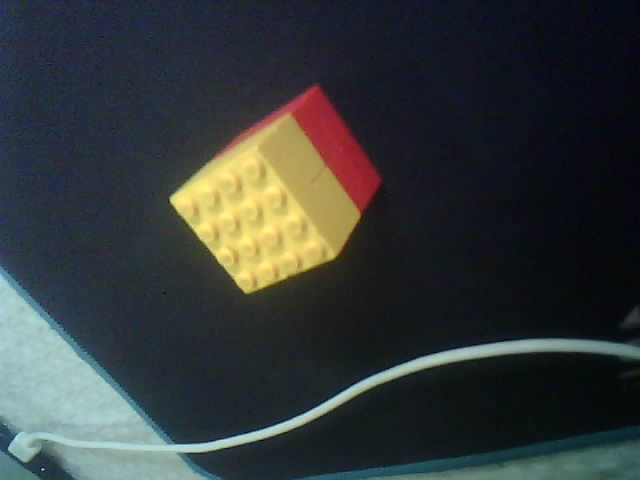lego: (166, 83, 383, 298)
